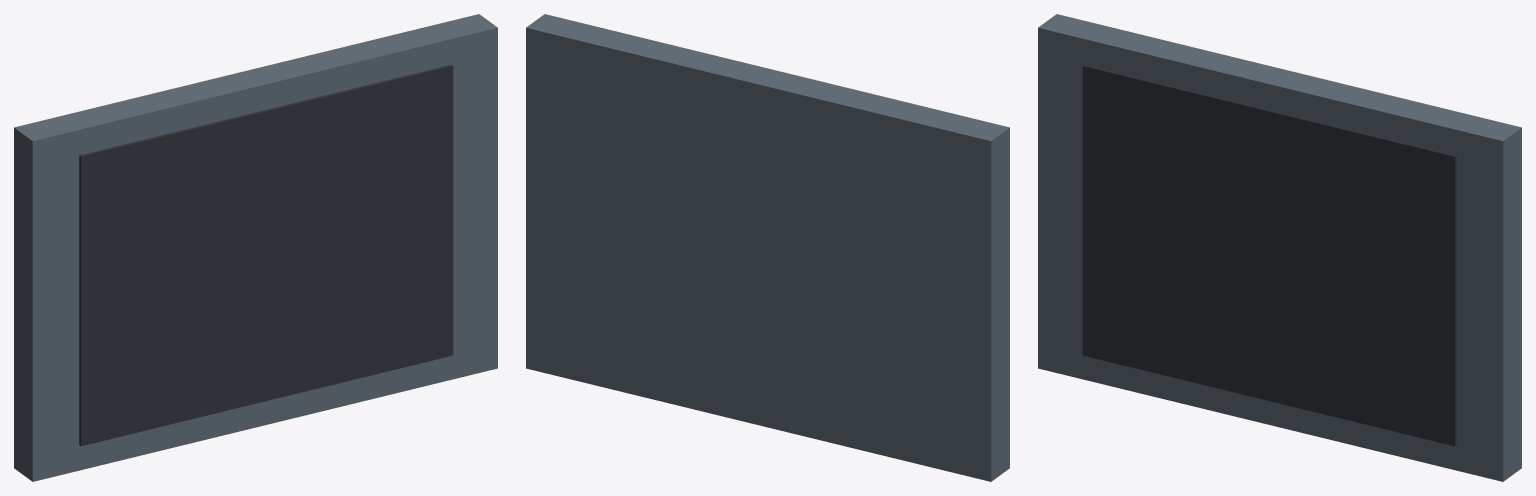
Rendered from silhouette-ssd-sata.glb.
3 views of the same model, side by side, from view 1: azimuth 30°, elevation 25°; view 2: azimuth 150°, elevation 25°; view 3: azimuth 330°, elevation 25° (orthographic).
Parts seen in each view (by area): view 1: Label envelope, Drive body; view 2: Drive body; view 3: Label envelope, Drive body.
Boxes of the visible parts, bbox=[...] form: Label envelope: bbox=[79, 64, 453, 446]; Drive body: bbox=[14, 14, 497, 481]; Drive body: bbox=[526, 14, 1009, 481]; Label envelope: bbox=[1082, 64, 1456, 446]; Drive body: bbox=[1038, 14, 1521, 481].
Size of the model in its own units: 0.1 by 0.07 by 0.00765.
